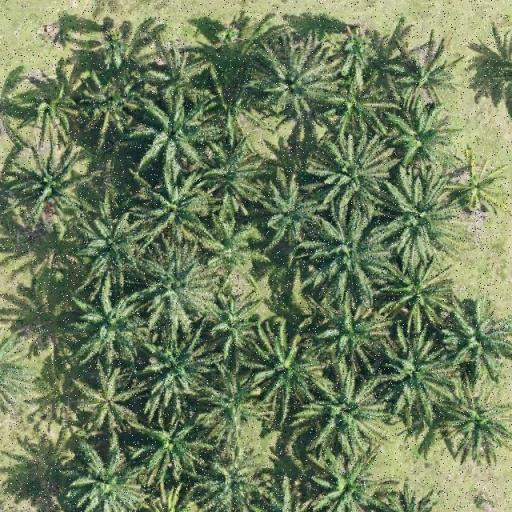Ganoderma: (457, 172, 496, 208)
